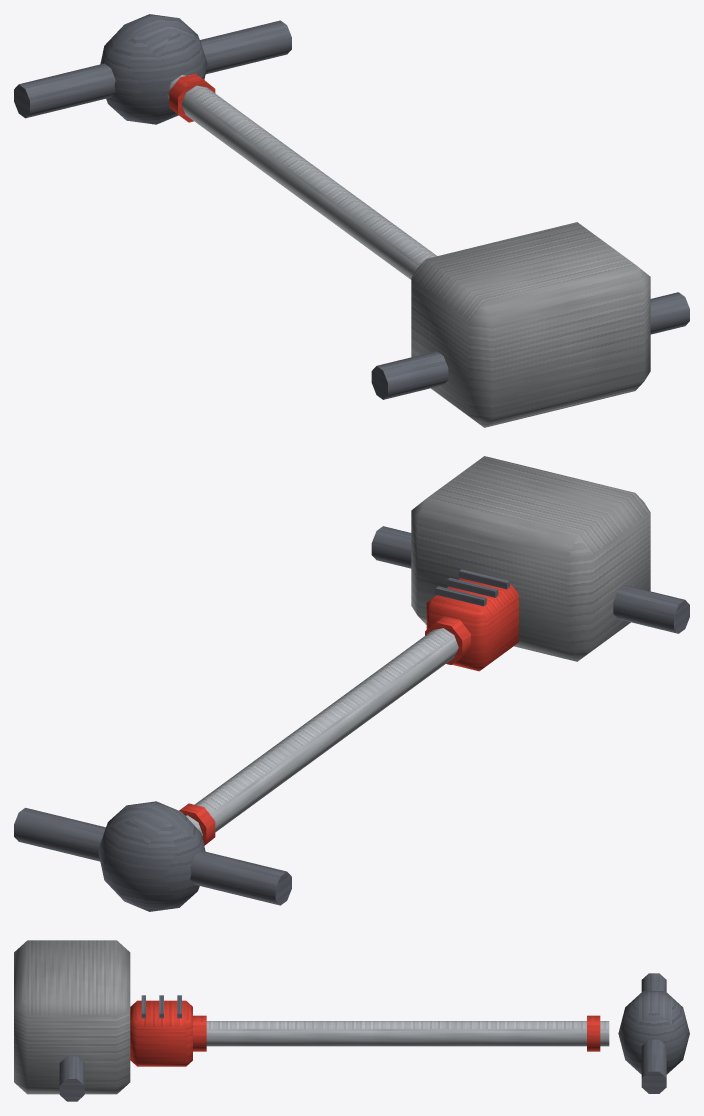
File: conversao_tracao_n4.glb
The picture shows the model from 3 angles, top to bottom: view 1: azimuth 30°, elevation 25°; view 2: azimuth 150°, elevation 25°; view 3: azimuth 270°, elevation 25°; orthographic projection. The views are drawn at different scales.
Parts seen in each view (by area): view 1: conversao_tracao_n4; view 2: conversao_tracao_n4; view 3: conversao_tracao_n4.
Boxes of the visible parts, x1=… form: conversao_tracao_n4: x1=14, y1=14, x2=689, y2=427; conversao_tracao_n4: x1=14, y1=456, x2=689, y2=911; conversao_tracao_n4: x1=14, y1=940, x2=689, y2=1101.
Size of the model in its own units: 0.6 by 0.26 by 1.51.
2 materials, 2 textured.
